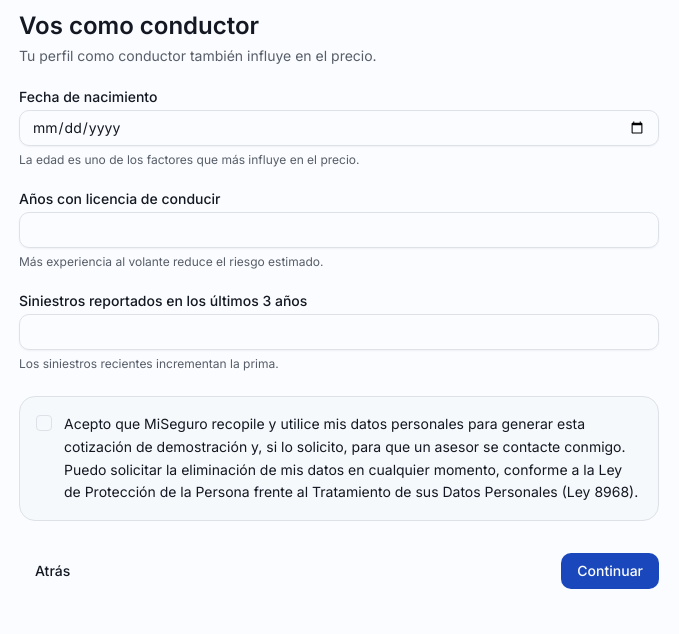
Scenario: DriverForm › blocks submission when the fields are valid but consent is not accepted
The width and height of the screenshot is (679, 634).
Step 1. Type "1990-05-15" into the date field labelled "Fecha de nacimiento" → (339, 128), box x1=19 y1=110 x2=659 y2=146
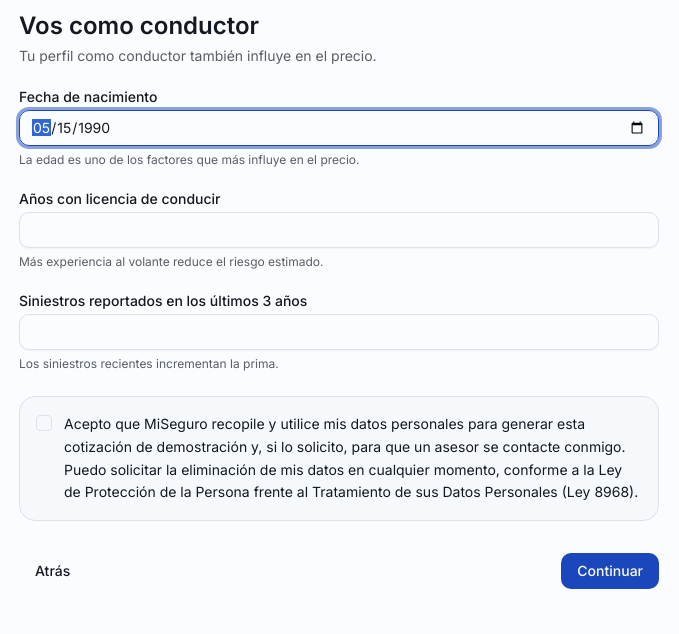
Step 2. Type "10" into the number field labelled "Años con licencia de conducir" → (339, 230), box x1=19 y1=212 x2=659 y2=248
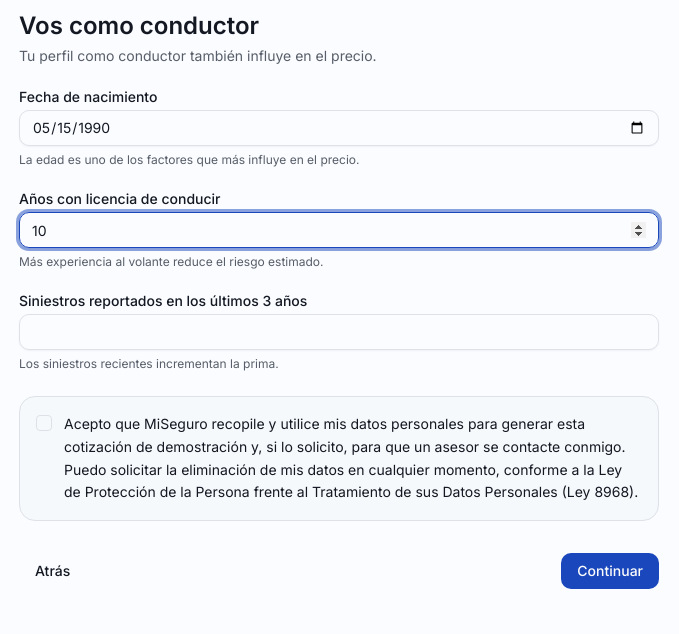
Step 3. Type "0" into the number field labelled "Siniestros reportados en los últimos 3 años" → (339, 332), box x1=19 y1=314 x2=659 y2=350
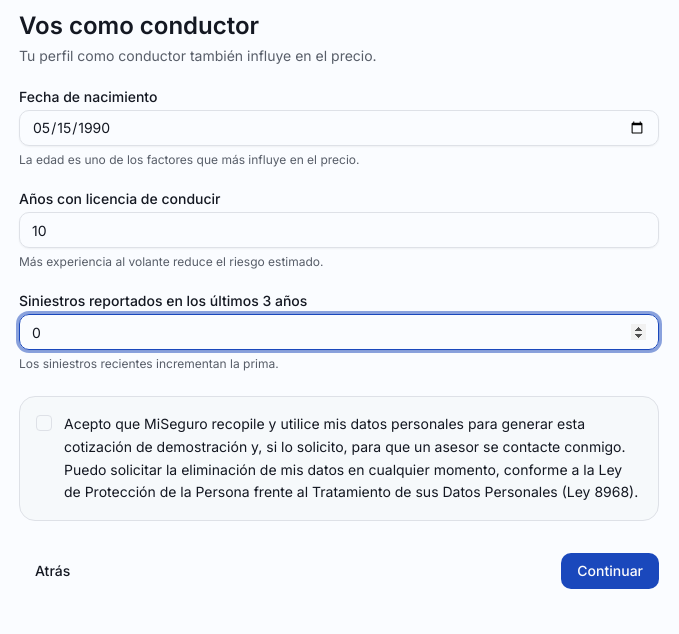
Step 4. Click the button "Continuar" → (610, 571), box x1=561 y1=553 x2=659 y2=589
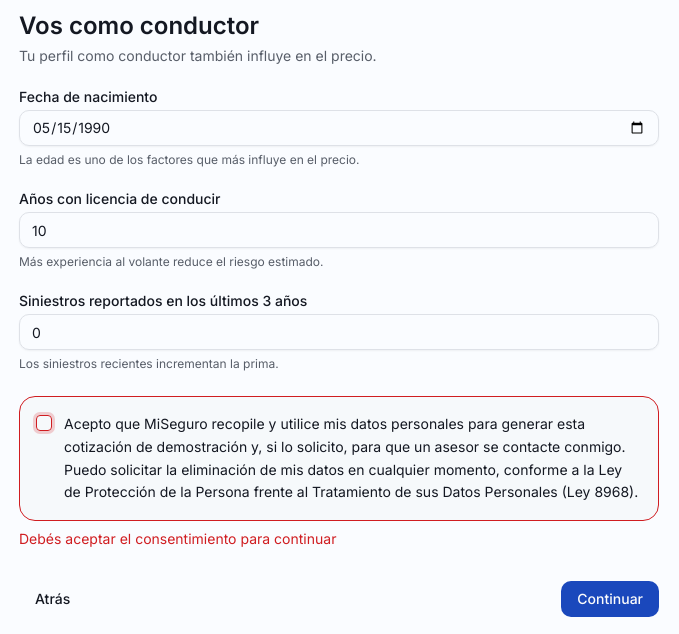
Check: the text "Debés aceptar el consentimiento para continuar" is shown, box x1=19 y1=530 x2=336 y2=547
